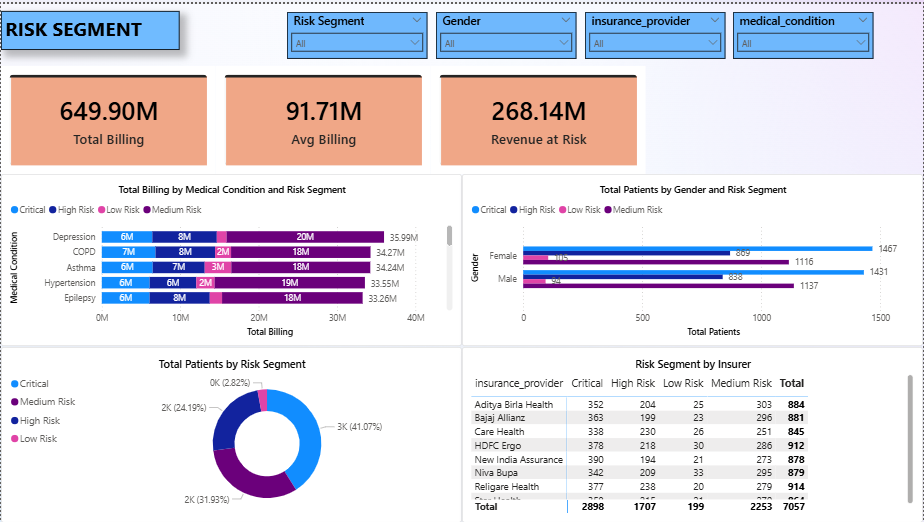

This screenshot's page, from the dashboard's own definition file:
{"tool":"powerbi","page":{"name":"Page 2","canvas":[1280,720],"ordinal":1},"visuals":[{"type":"textbox","box":[0,9.6,247.7,53.7],"z":0},{"type":"cardVisual","fields":{"Data":["Sum(hospital_churn_finall2.avg_billing)"]},"box":[298.7,86.7,298.7,150],"z":1000},{"type":"cardVisual","fields":{"Data":["Measures (2).Revenue at Risk"]},"box":[597.3,86.7,298.7,150],"z":2000},{"type":"cardVisual","fields":{"Data":["Sum(hospital_churn_finall2.total_billing)"]},"box":[0,86.7,298.7,150],"z":3000},{"type":"barChart","title":"Total Billing by Medical Condition and Risk Segment","fields":{"Series":["hospital_churn_finall2.Risk Segment"],"Y":["Sum(hospital_churn_finall2.total_billing)"],"Category":["hospital_churn_finall2.medical_condition"]},"box":[0,236.7,640,239.5],"z":4000},{"type":"clusteredBarChart","title":"Total Patients by Gender and Risk Segment","fields":{"Category":["hospital_churn_finall2.gender"],"Y":["Measures (2).Total Patients"],"Series":["hospital_churn_finall2.Risk Segment"]},"box":[640,236.7,640,239.5],"z":5000},{"type":"donutChart","fields":{"Category":["hospital_churn_finall2.Risk Segment"],"Y":["Measures (2).Total Patients"]},"box":[0,476.2,640,243.6],"z":6000},{"type":"pivotTable","title":"Risk Segment by Insurer","fields":{"Rows":["hospital_churn_finall2.insurance_provider"],"Columns":["hospital_churn_finall2.Risk Segment"],"Values":["Measures (2).Total Patients"]},"box":[640,476,640,244],"z":7000},{"type":"slicer","fields":{"Values":["hospital_churn_finall2.insurance_provider"]},"box":[810.7,11,195.4,64.7],"z":7001},{"type":"slicer","fields":{"Values":["hospital_churn_finall2.medical_condition"]},"box":[1017.1,11,195.4,64.7],"z":7002},{"type":"slicer","fields":{"Values":["hospital_churn_finall2.gender"]},"box":[604.2,11,195.4,64.7],"z":7003},{"type":"slicer","fields":{"Values":["hospital_churn_finall2.Risk Segment"]},"box":[397.8,11,195.4,64.7],"z":7004}]}

Visuals, with their boxes in screenshot pixels (x1, y1, x2, y2), scaled from the page's 1280x720 canvas onto the 924x522 screenshot:
textbox: {"left": 0, "top": 7, "right": 179, "bottom": 46}
cardVisual - Sum(hospital_churn_finall2.avg_billing): {"left": 216, "top": 63, "right": 431, "bottom": 172}
cardVisual - Measures (2).Revenue at Risk: {"left": 431, "top": 63, "right": 647, "bottom": 172}
cardVisual - Sum(hospital_churn_finall2.total_billing): {"left": 0, "top": 63, "right": 216, "bottom": 172}
"Total Billing by Medical Condition and Risk Segment" barChart: {"left": 0, "top": 172, "right": 462, "bottom": 345}
"Total Patients by Gender and Risk Segment" clusteredBarChart: {"left": 462, "top": 172, "right": 923, "bottom": 345}
donutChart - hospital_churn_finall2.Risk Segment x Measures (2).Total Patients: {"left": 0, "top": 345, "right": 462, "bottom": 521}
"Risk Segment by Insurer" pivotTable: {"left": 462, "top": 345, "right": 923, "bottom": 521}
slicer - hospital_churn_finall2.insurance_provider: {"left": 585, "top": 8, "right": 726, "bottom": 55}
slicer - hospital_churn_finall2.medical_condition: {"left": 734, "top": 8, "right": 875, "bottom": 55}
slicer - hospital_churn_finall2.gender: {"left": 436, "top": 8, "right": 577, "bottom": 55}
slicer - hospital_churn_finall2.Risk Segment: {"left": 287, "top": 8, "right": 428, "bottom": 55}
